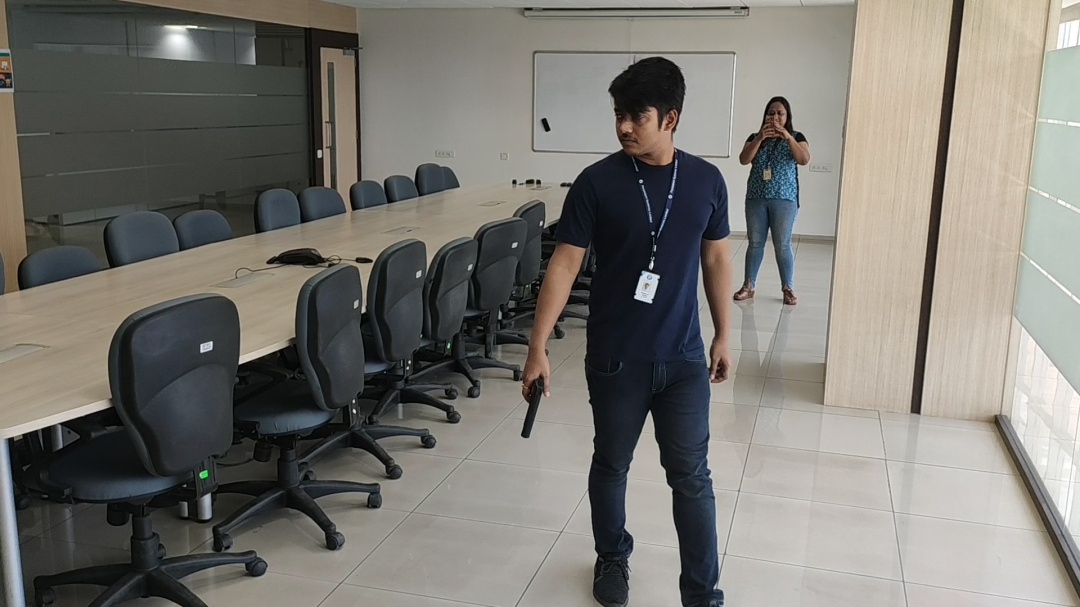gun: (515, 377, 547, 443)
